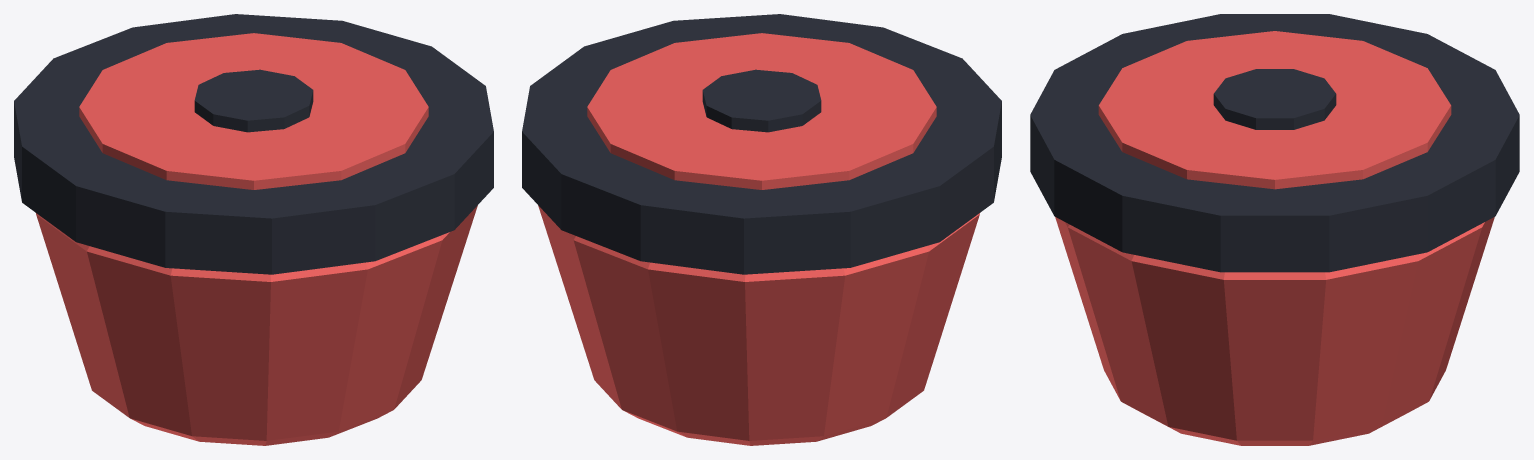
File: cargo_espresso_capsule.glb
The picture shows the model from 3 angles, left to right: view 1: azimuth 30°, elevation 25°; view 2: azimuth 150°, elevation 25°; view 3: azimuth 270°, elevation 25°; orthographic projection.
Parts seen in each view (by area): view 1: CargoCapsule; view 2: CargoCapsule; view 3: CargoCapsule.
Boxes of the visible parts, box(x1,y1,x2,y2) form: CargoCapsule: box(14, 14, 493, 445); CargoCapsule: box(522, 14, 1001, 445); CargoCapsule: box(1030, 14, 1519, 445).
Size of the model in its own units: 0.0916 by 0.0615 by 0.094.
